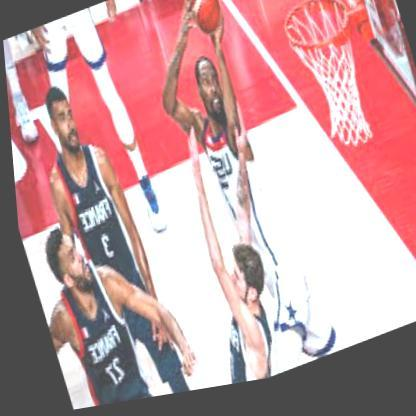basketball: (178, 0, 226, 45)
rim: (275, 0, 354, 72)
